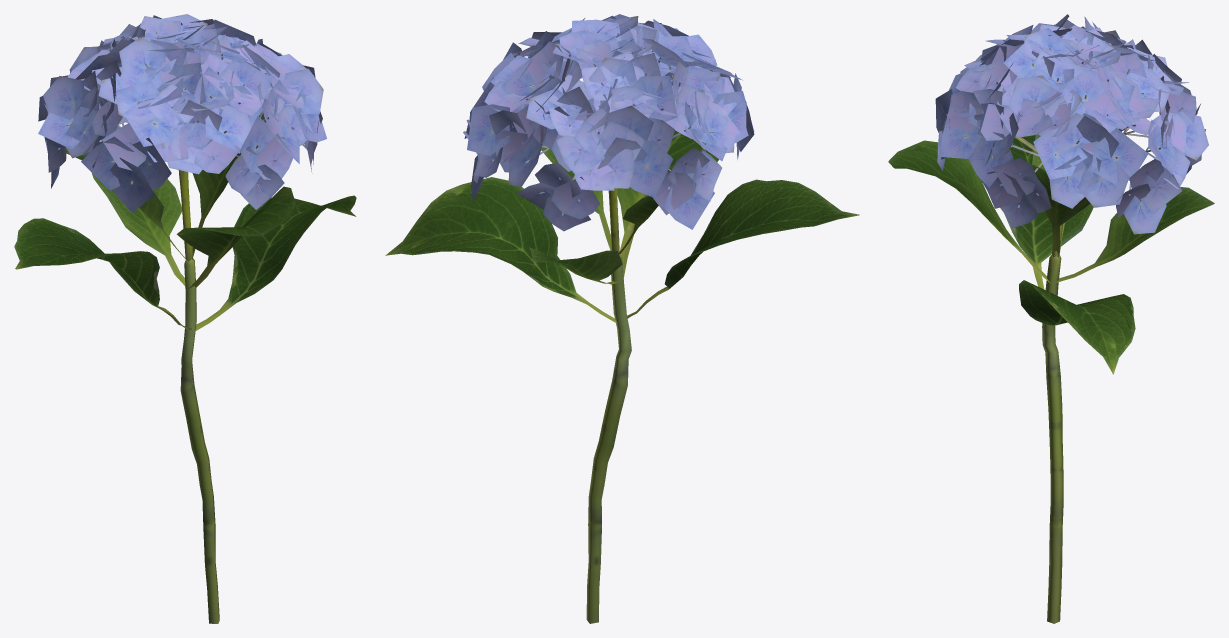
File: Hydrangea_OG_short_lightblue.glb
3 views of the same model, side by side, from view 1: azimuth 30°, elevation 25°; view 2: azimuth 150°, elevation 25°; view 3: azimuth 270°, elevation 25° (orthographic). The views are drawn at different scales.
Visible parts, largest first — view 1: Hydrangea; view 2: Hydrangea; view 3: Hydrangea.
Part boxes in pixels (x1,y1,x2,y2): Hydrangea: (14, 14, 356, 623); Hydrangea: (385, 14, 859, 623); Hydrangea: (888, 14, 1214, 623).
Bounding box in the file's own units: 1.38 × 1.94 × 1.
1 material, 1 textured.
